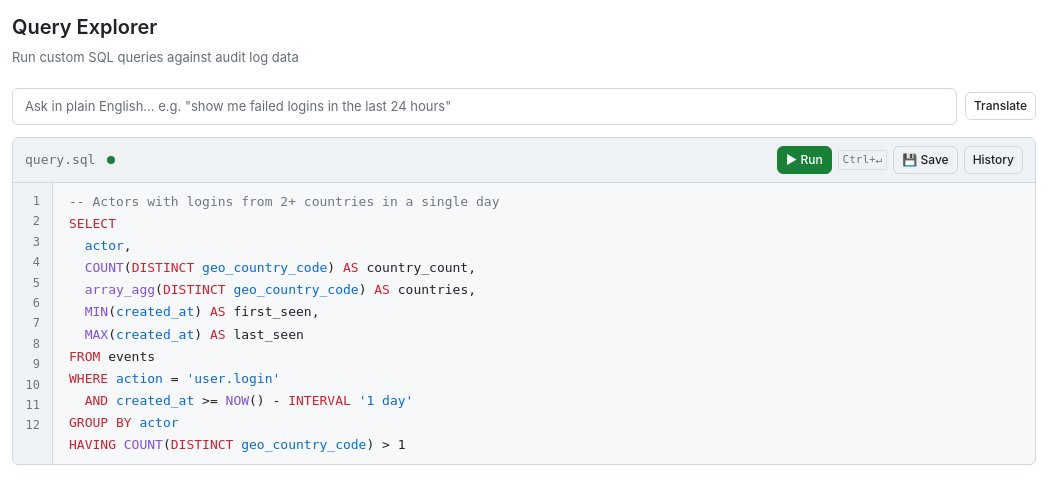
Test: QueryPage › shows empty state when history dropdown is opened with no runs
Click the button "History": click(993, 160) 964,146 -> 1023,174
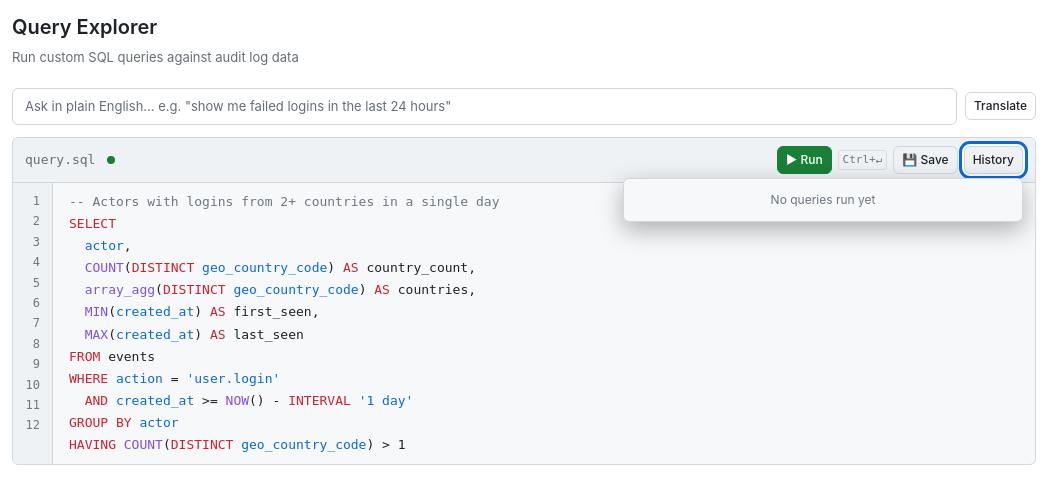
Expected: the text "No queries run yet" is shown, 771,192 -> 875,207
